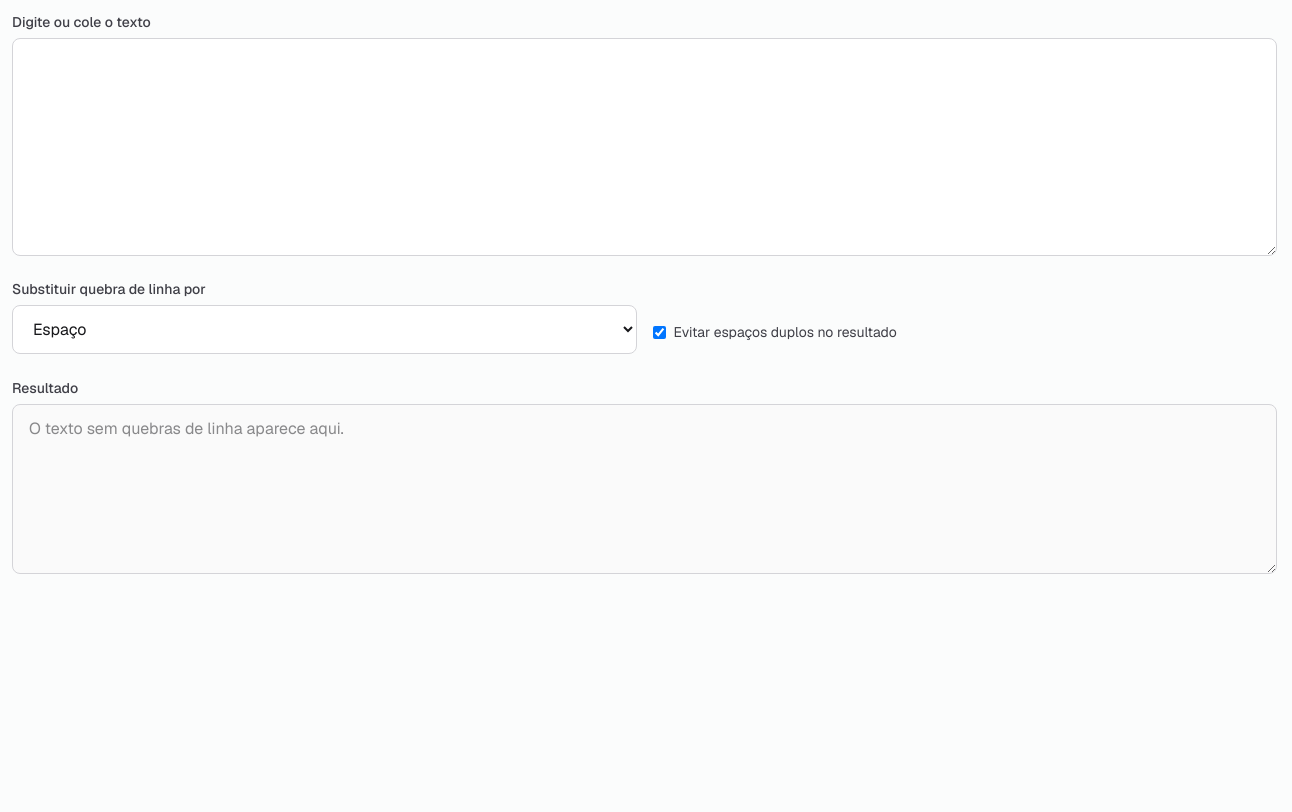
Test: RemoverQuebrasLinhaTool › mostra campo de texto personalizado quando selecionado
Step 1. Select "Texto personalizado" in the dropdown labelled "Substituir quebra de linha por" → (324, 330), box [12,305,636,354]
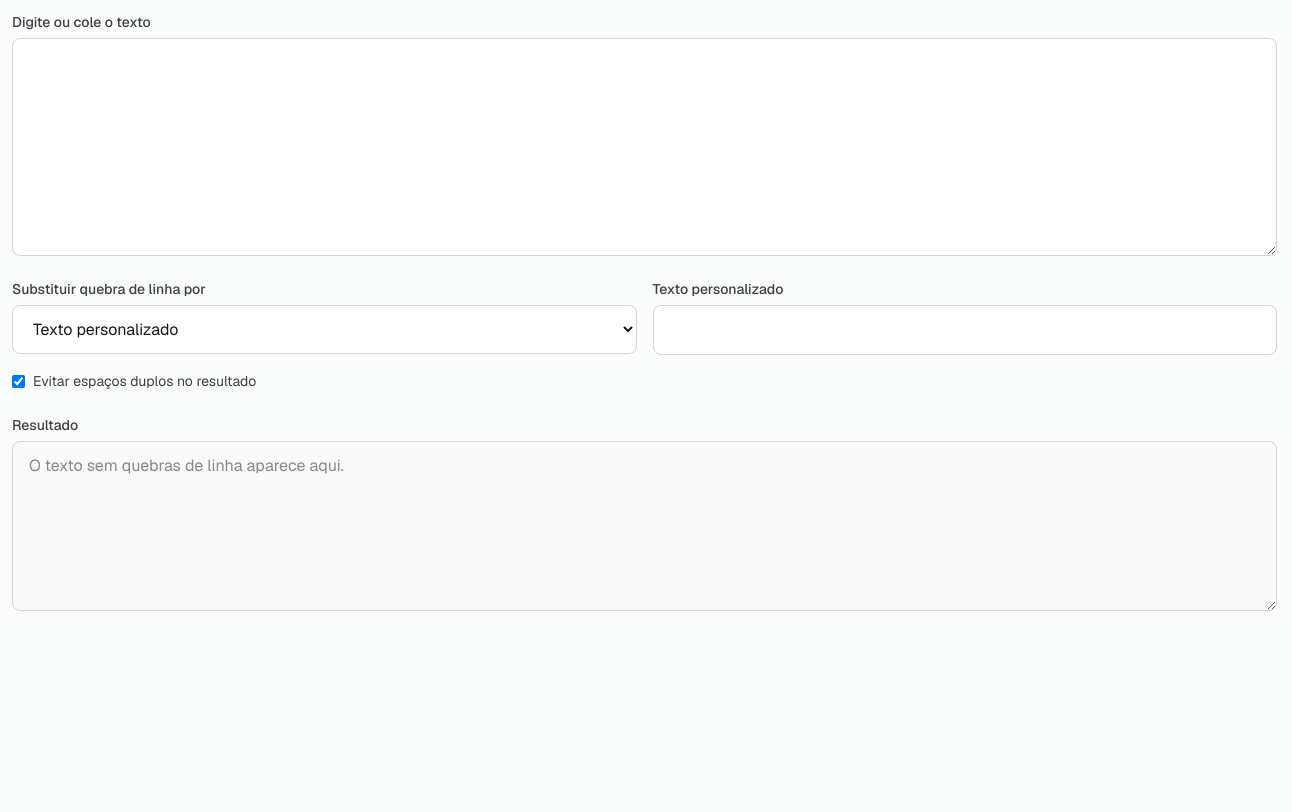
Now the field labelled "Texto personalizado" is shown, box [652,305,1277,355]
